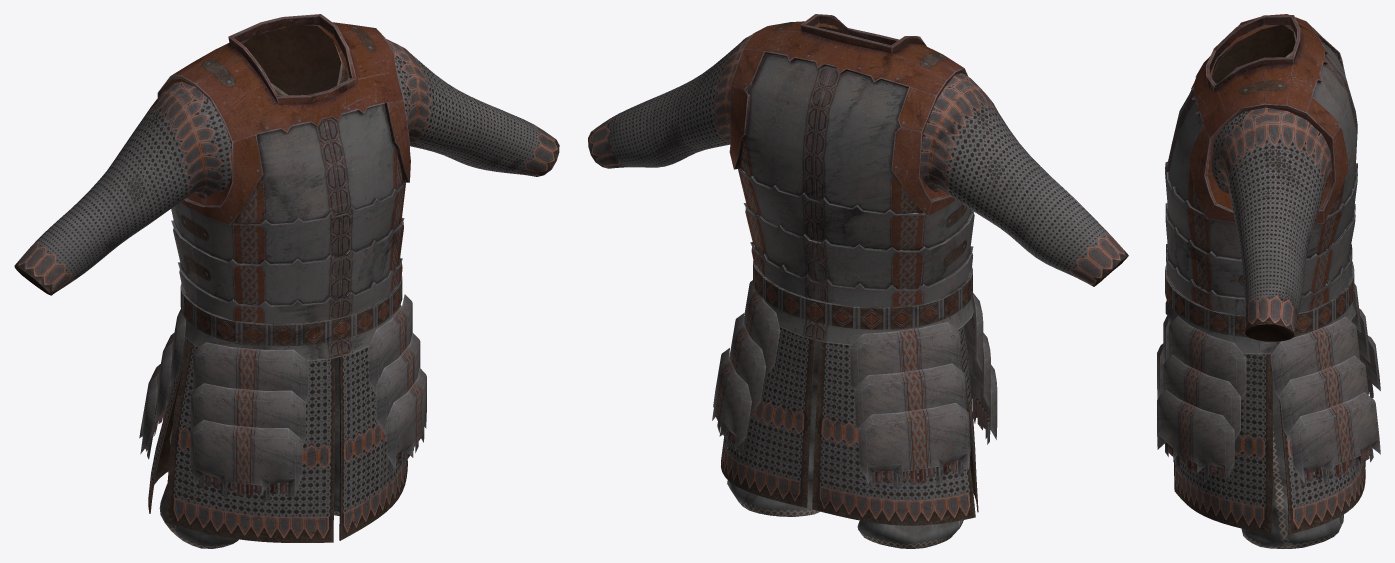
File: sk_dwarf_iron_chest_elite_a.fbx
3 views of the same model, side by side, from view 1: azimuth 30°, elevation 25°; view 2: azimuth 150°, elevation 25°; view 3: azimuth 270°, elevation 25° (orthographic). The views are drawn at different scales.
Parts seen in each view (by area): view 1: sk_dwarf_iron_chest_elite_a.1, sk_dwarf_iron_chest_elite_a.0, sk_dwarf_iron_chest_elite_a.2; view 2: sk_dwarf_iron_chest_elite_a.1, sk_dwarf_iron_chest_elite_a.0, sk_dwarf_iron_chest_elite_a.2; view 3: sk_dwarf_iron_chest_elite_a.1, sk_dwarf_iron_chest_elite_a.0, sk_dwarf_iron_chest_elite_a.2.
Boxes of the visible parts, x1,y1,x2,y2 form: sk_dwarf_iron_chest_elite_a.1: (139, 14, 426, 548); sk_dwarf_iron_chest_elite_a.0: (14, 25, 559, 542); sk_dwarf_iron_chest_elite_a.2: (180, 275, 402, 346); sk_dwarf_iron_chest_elite_a.1: (712, 14, 997, 548); sk_dwarf_iron_chest_elite_a.0: (588, 26, 1128, 525); sk_dwarf_iron_chest_elite_a.2: (753, 261, 972, 329); sk_dwarf_iron_chest_elite_a.1: (1157, 14, 1380, 548); sk_dwarf_iron_chest_elite_a.0: (1173, 24, 1365, 534); sk_dwarf_iron_chest_elite_a.2: (1165, 261, 1354, 336).
Size of the model in its own units: 1.17 by 0.4408 by 1.03.
3 materials, 3 textured.
